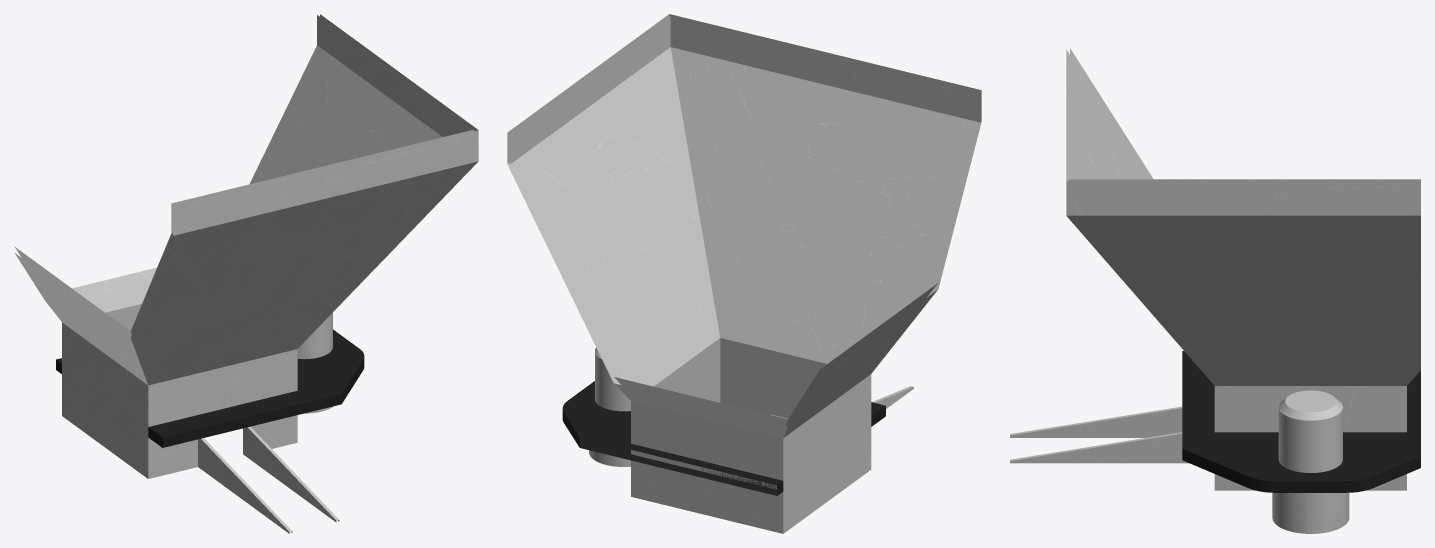
File: PickingStation_Cube09.glb
3 renders of one model, left to right at view 1: azimuth 30°, elevation 25°; view 2: azimuth 150°, elevation 25°; view 3: azimuth 270°, elevation 25°, orthographic. The views are drawn at different scales.
Visible parts, largest first — view 1: color-13[5]; view 2: color-13[5]; view 3: color-13[5].
Boxes of the visible parts, box(x1,y1,x2,y2) form: color-13[5]: box(14, 14, 478, 533); color-13[5]: box(507, 14, 981, 533); color-13[5]: box(1010, 48, 1420, 533).
Bounding box in the file's own units: 0.3074 × 0.32 × 0.32.
Materials: 2 (2 with a texture image).
